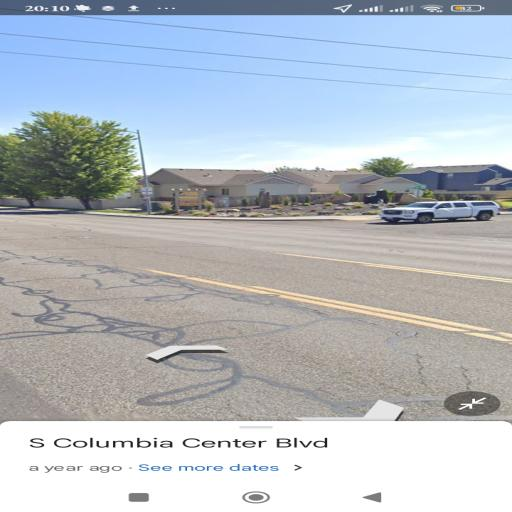Roads: (26, 201, 512, 419)
Trees: (0, 118, 152, 206)
